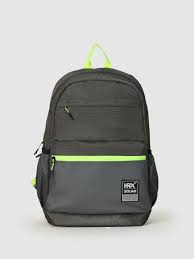backpack: (32, 41, 158, 227)
